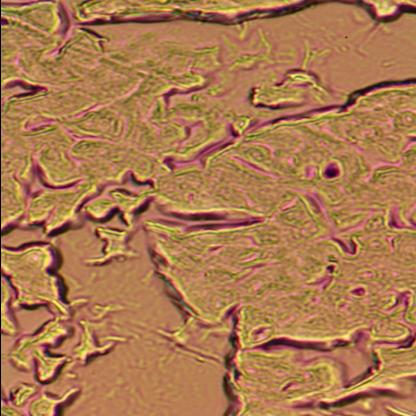Stage I: (0, 70, 416, 416)
